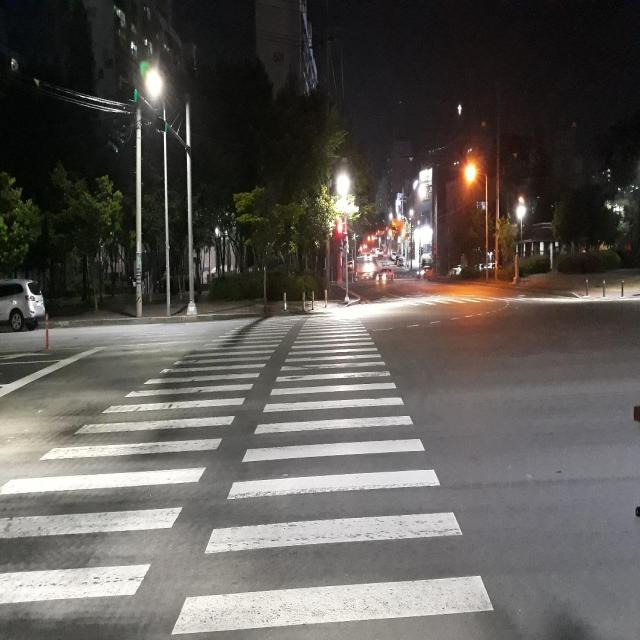빨간불: (337, 220, 342, 247)
횡단보도: (0, 308, 494, 640)
